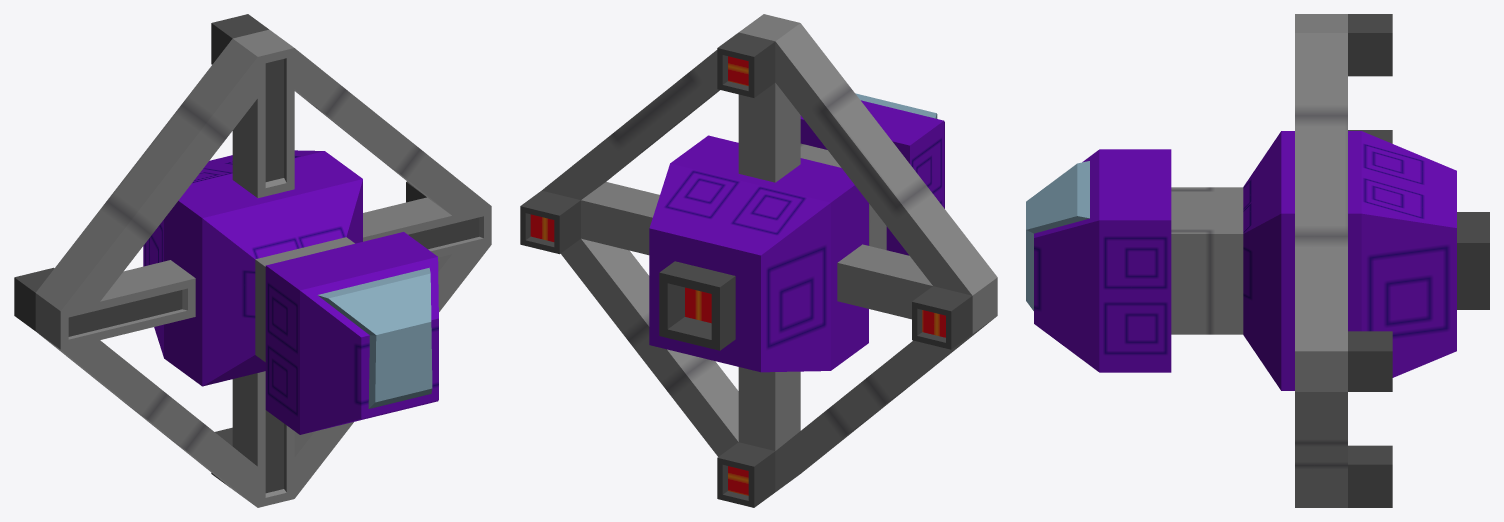
The model's file is Ship07.fbx.
3 renders of one model, left to right at view 1: azimuth 30°, elevation 25°; view 2: azimuth 150°, elevation 25°; view 3: azimuth 270°, elevation 25°, orthographic. The views are drawn at different scales.
Visible parts, largest first — view 1: Ship07; view 2: Ship07; view 3: Ship07.
Part boxes in pixels (x1,y1,x2,y2): Ship07: (14, 14, 491, 507); Ship07: (520, 14, 997, 507); Ship07: (1026, 14, 1489, 507).
Bounding box in the file's own units: 501 × 501 × 443.
Materials: 1 (1 with a texture image).
